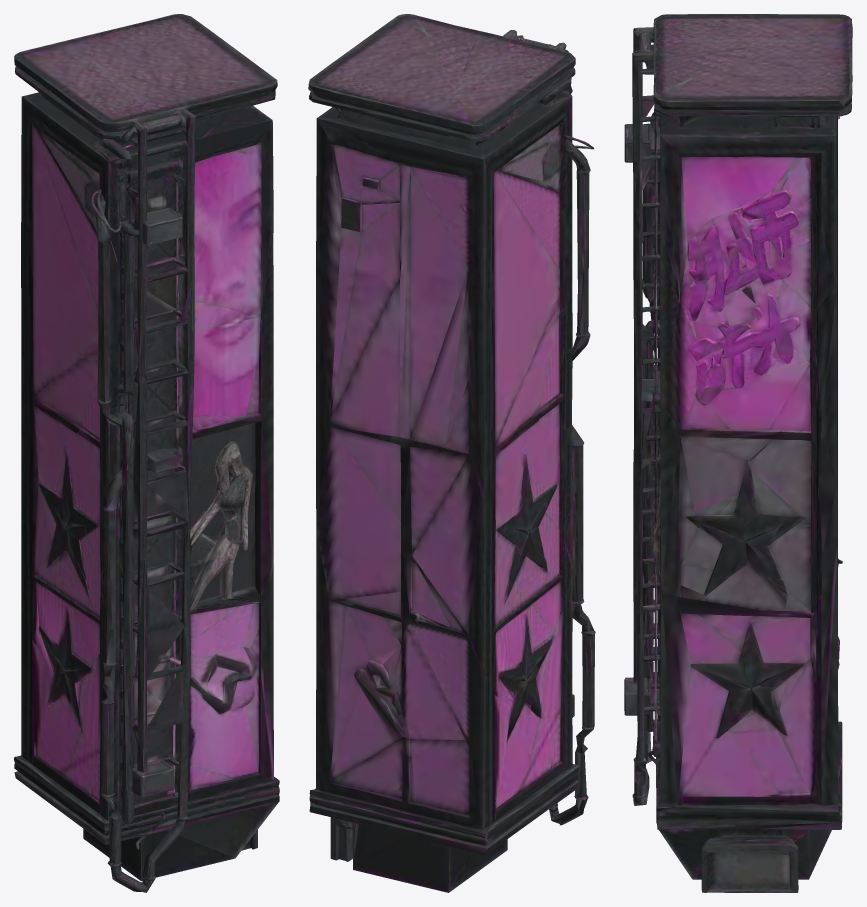
The model's file is mx_holo_tower.glb.
The picture shows the model from 3 angles, left to right: view 1: azimuth 30°, elevation 25°; view 2: azimuth 150°, elevation 25°; view 3: azimuth 270°, elevation 25°; orthographic projection.
Bounding box in the file's own units: 0.4726 × 1.9 × 0.4963.
1 material, 1 textured.
